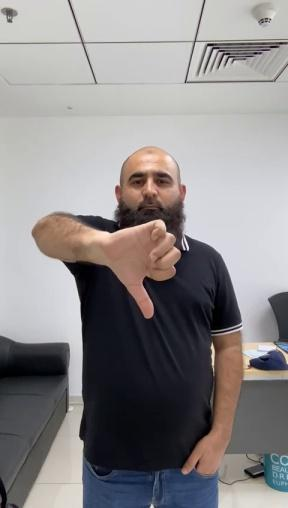thumbs-down: (103, 228, 187, 330)
